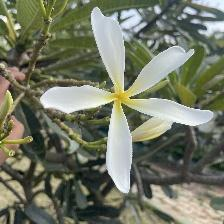champaka: (42, 4, 214, 197)
